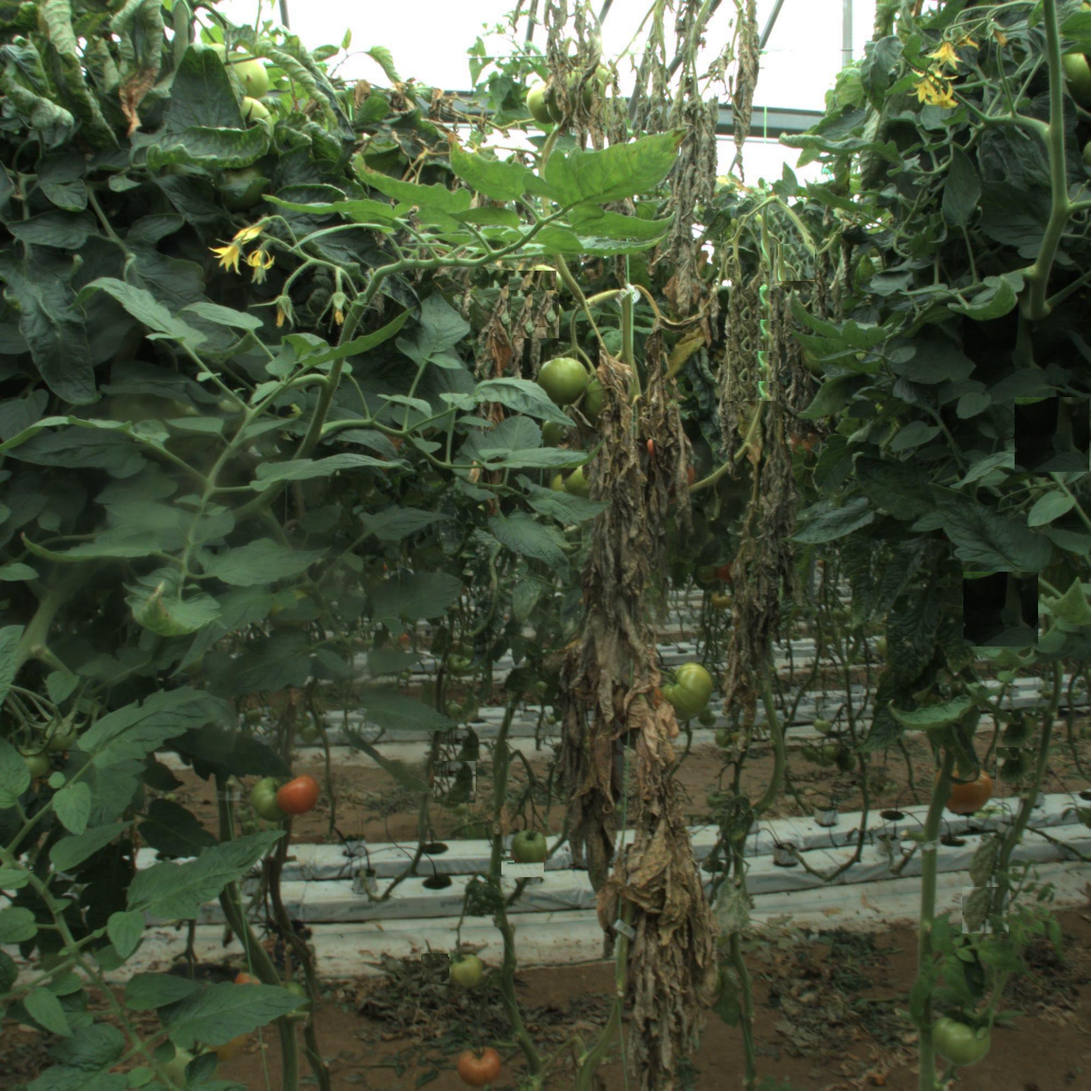['unripe', 'semi-ripe', 'fully-ripe']: (653, 661, 713, 721), (931, 1010, 986, 1065), (249, 777, 294, 822), (542, 353, 587, 398), (513, 831, 546, 864), (452, 955, 484, 988)
